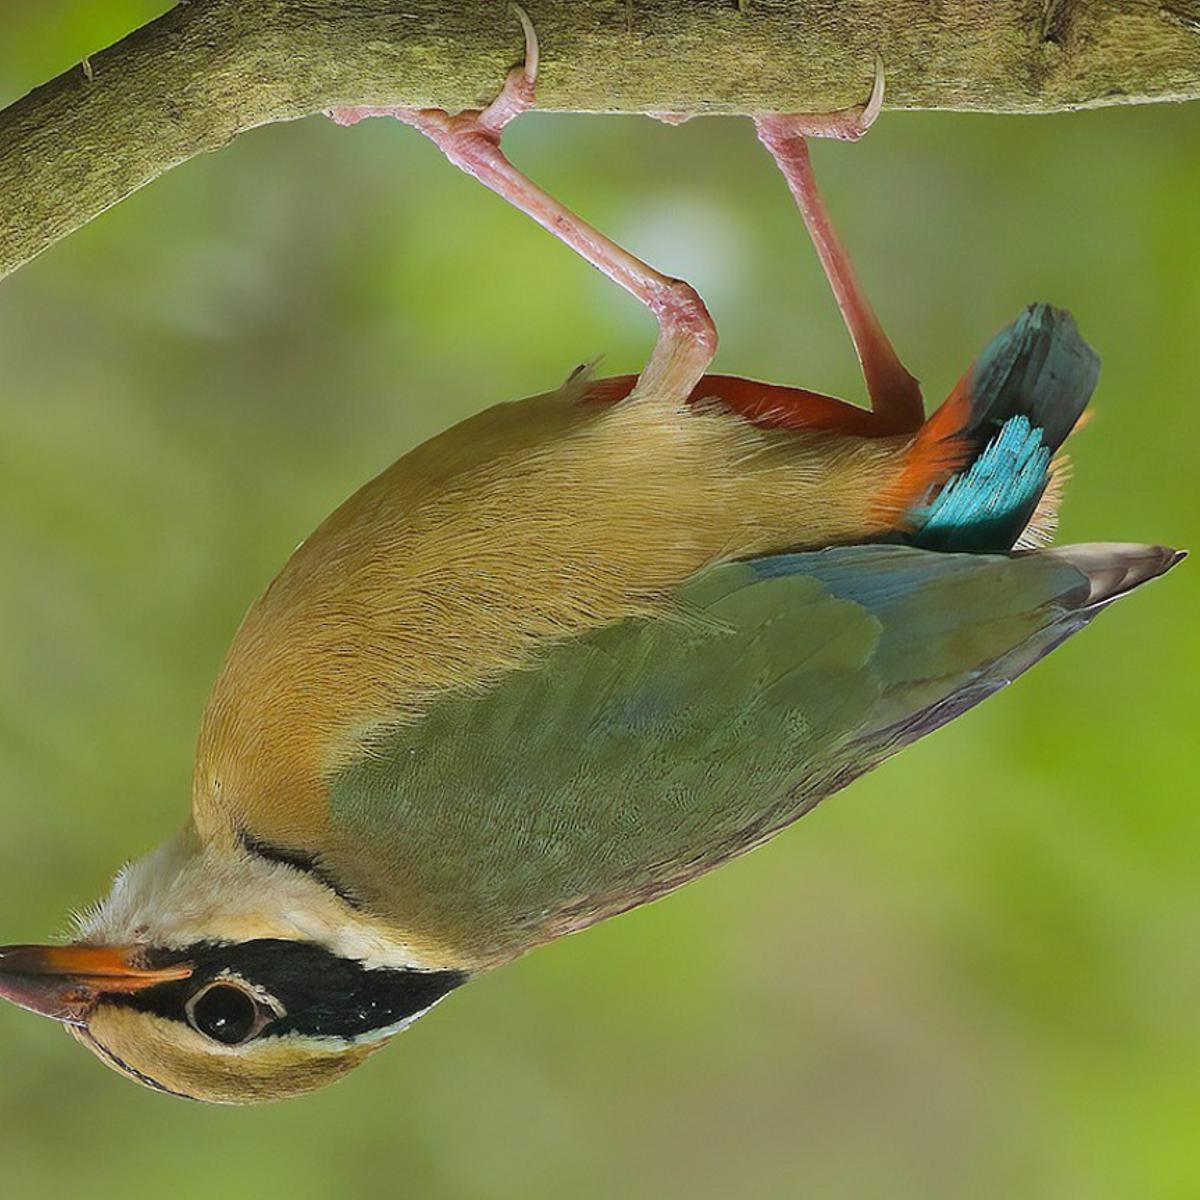pitta: (85, 195, 1112, 1130)
